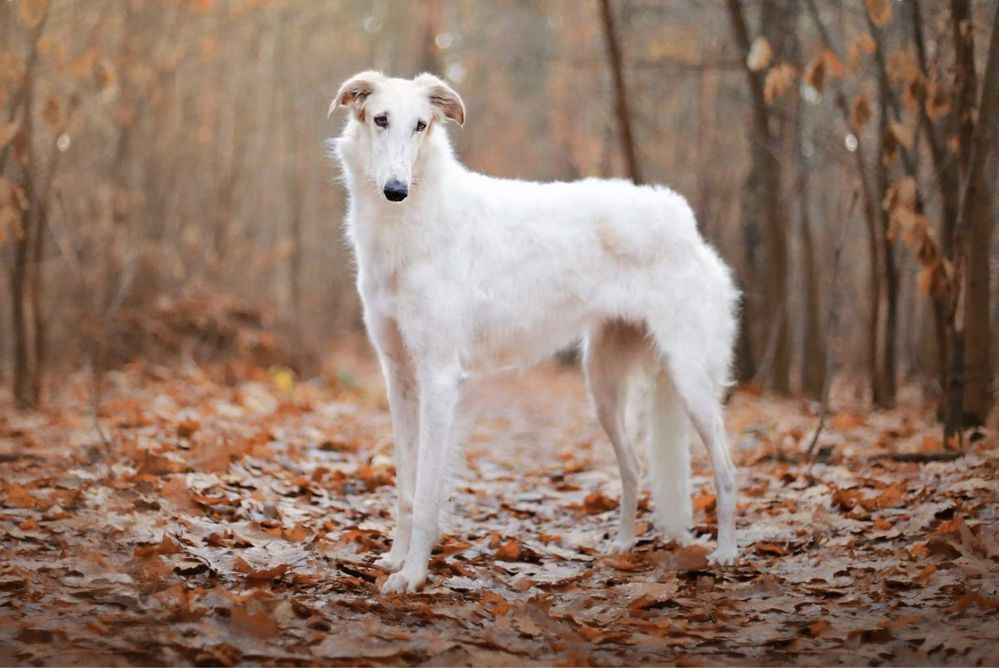borzoi: (325, 68, 761, 597)
